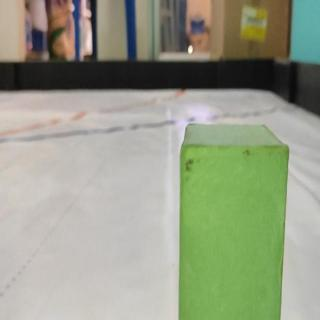greenbox: (177, 120, 293, 320)
